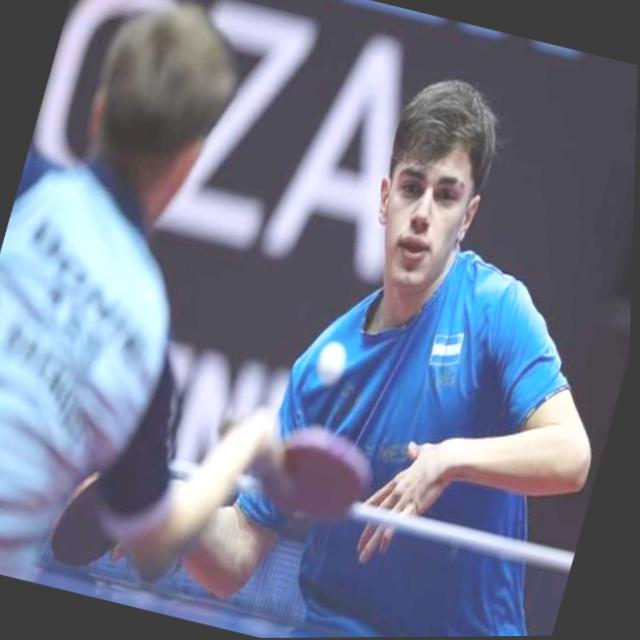TT Net: (0, 422, 573, 637)
TT Racket: (32, 448, 152, 583), (277, 422, 377, 530)
TT Table: (0, 547, 371, 638)
